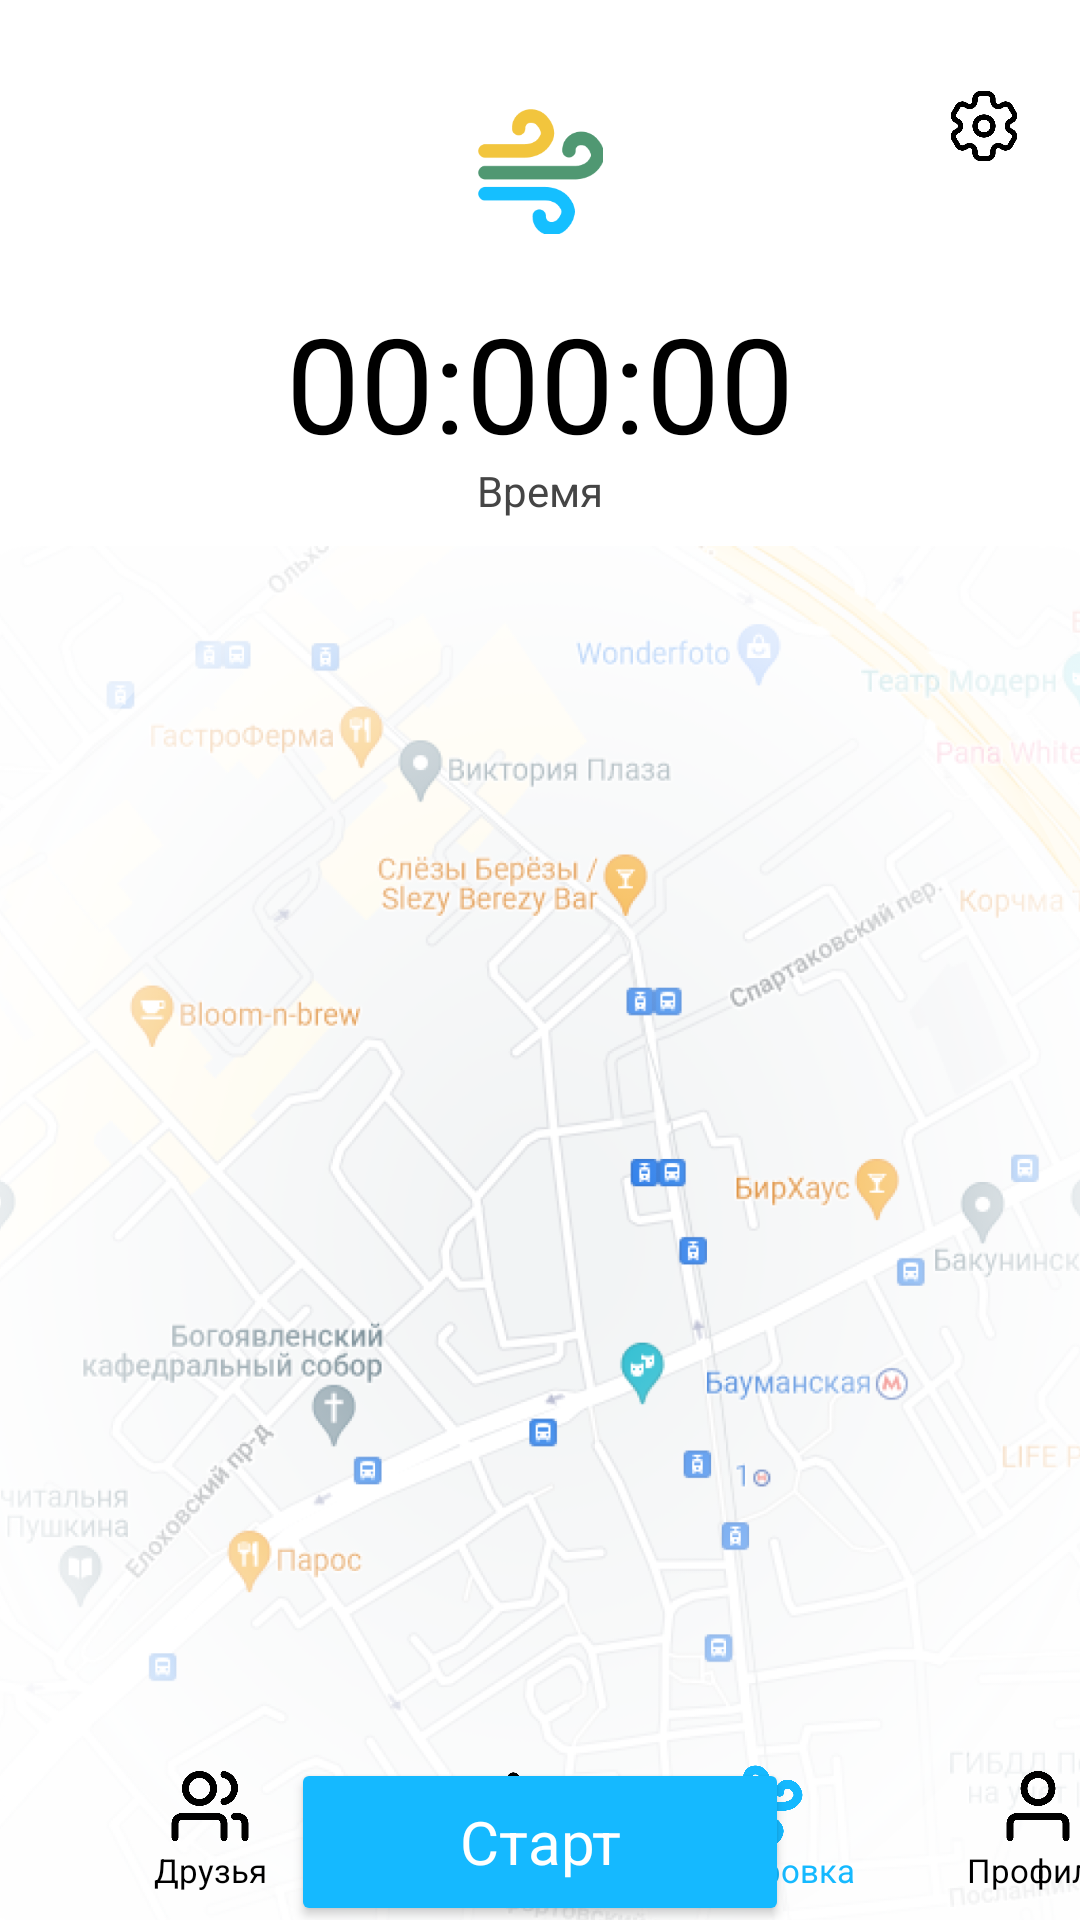

Screen size 1080×1920. Icon name, then its center in pixels as point (x, y):
settings: point (984, 126)
